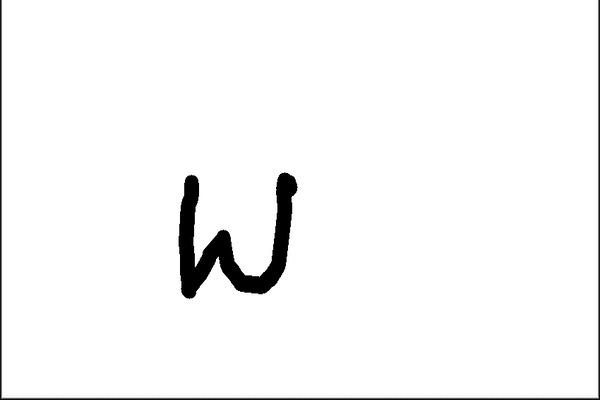w: (166, 159, 306, 307)
